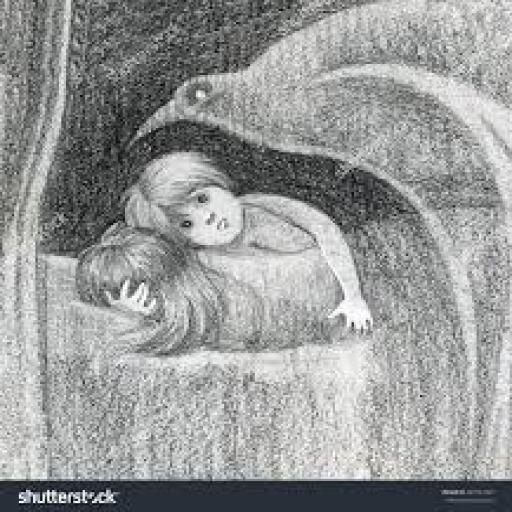person: (113, 144, 385, 344)
